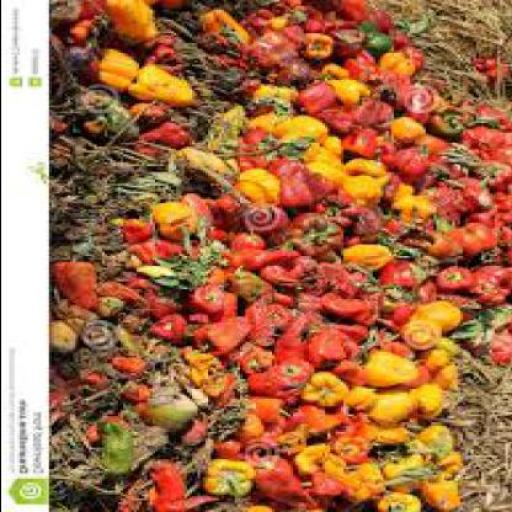biodegradable: (48, 1, 511, 512), (258, 256, 366, 299), (180, 350, 244, 414), (140, 246, 226, 293), (146, 242, 226, 290), (252, 457, 324, 510), (130, 64, 201, 112), (252, 350, 318, 401), (133, 394, 202, 436), (196, 10, 258, 56), (326, 459, 388, 505), (122, 32, 188, 74), (50, 264, 101, 318), (241, 8, 305, 51), (124, 278, 188, 320), (231, 268, 295, 310), (271, 162, 319, 216), (288, 215, 348, 258), (178, 149, 236, 193), (144, 460, 194, 511), (87, 51, 144, 95), (467, 316, 511, 373), (307, 327, 364, 371), (98, 2, 157, 44), (441, 295, 491, 344), (450, 307, 511, 347), (324, 62, 372, 110), (363, 351, 420, 391), (246, 32, 300, 74), (135, 123, 196, 160), (390, 146, 443, 188), (244, 289, 279, 352), (66, 2, 108, 51), (154, 203, 202, 245), (207, 458, 255, 500), (202, 314, 246, 358), (469, 267, 511, 313), (337, 206, 390, 242), (329, 294, 385, 328), (411, 303, 470, 335), (337, 420, 377, 467), (467, 226, 511, 268), (297, 448, 353, 480), (464, 130, 511, 168), (382, 457, 430, 494), (401, 88, 446, 127), (302, 374, 353, 408), (98, 283, 152, 315), (238, 131, 280, 171), (310, 152, 348, 196), (183, 195, 217, 244), (276, 115, 328, 147), (228, 248, 300, 271), (231, 344, 281, 377), (348, 97, 398, 129), (239, 172, 284, 207), (215, 107, 247, 156), (128, 245, 192, 269), (294, 408, 342, 440), (430, 106, 475, 140), (382, 48, 427, 82), (438, 188, 480, 224), (304, 14, 364, 39), (372, 394, 416, 428), (268, 307, 308, 344), (379, 70, 414, 112), (56, 301, 100, 334), (210, 197, 247, 236), (276, 60, 321, 92), (247, 209, 295, 239), (374, 422, 419, 454), (93, 412, 130, 450), (471, 164, 511, 199), (53, 370, 82, 418), (411, 385, 448, 422), (404, 322, 443, 356), (348, 246, 392, 276), (421, 482, 465, 511), (462, 225, 498, 260), (348, 135, 398, 160), (176, 418, 212, 452), (419, 426, 456, 459), (469, 105, 511, 134), (302, 86, 340, 118), (384, 260, 422, 292), (321, 105, 361, 135), (152, 316, 188, 348), (310, 170, 335, 216), (388, 117, 427, 146), (334, 30, 369, 62), (183, 196, 215, 230), (345, 162, 390, 186), (419, 137, 456, 166), (335, 325, 379, 349), (392, 184, 417, 226), (50, 2, 85, 31), (350, 178, 385, 207), (226, 233, 270, 256), (347, 51, 377, 84), (373, 492, 425, 511), (130, 103, 170, 127), (249, 109, 279, 141), (212, 295, 242, 327), (120, 218, 156, 244), (438, 270, 474, 296), (247, 115, 286, 139), (308, 475, 347, 499), (308, 32, 337, 64), (236, 414, 265, 446), (273, 2, 313, 25), (53, 320, 80, 354), (478, 57, 510, 85), (438, 234, 467, 264), (350, 389, 380, 418), (257, 401, 294, 424), (438, 457, 470, 483), (313, 62, 353, 82), (260, 86, 300, 106), (120, 383, 152, 408), (50, 116, 80, 142), (340, 364, 372, 388), (284, 426, 310, 455), (101, 37, 138, 57), (414, 193, 438, 223), (424, 352, 456, 374), (384, 342, 416, 364), (90, 116, 117, 142), (204, 228, 239, 248), (300, 292, 329, 316), (368, 36, 396, 60), (294, 2, 345, 15), (342, 2, 372, 24), (438, 368, 462, 394), (117, 358, 156, 374), (440, 338, 467, 361), (371, 14, 398, 36), (101, 299, 130, 319), (384, 172, 400, 207), (215, 442, 244, 461), (408, 367, 430, 391), (390, 33, 414, 53), (470, 217, 502, 231), (342, 238, 367, 254), (160, 2, 192, 14), (334, 191, 353, 211), (498, 197, 511, 225), (80, 374, 106, 388), (364, 21, 380, 43), (326, 136, 342, 158), (191, 314, 215, 327), (425, 280, 438, 302), (239, 506, 284, 511)
